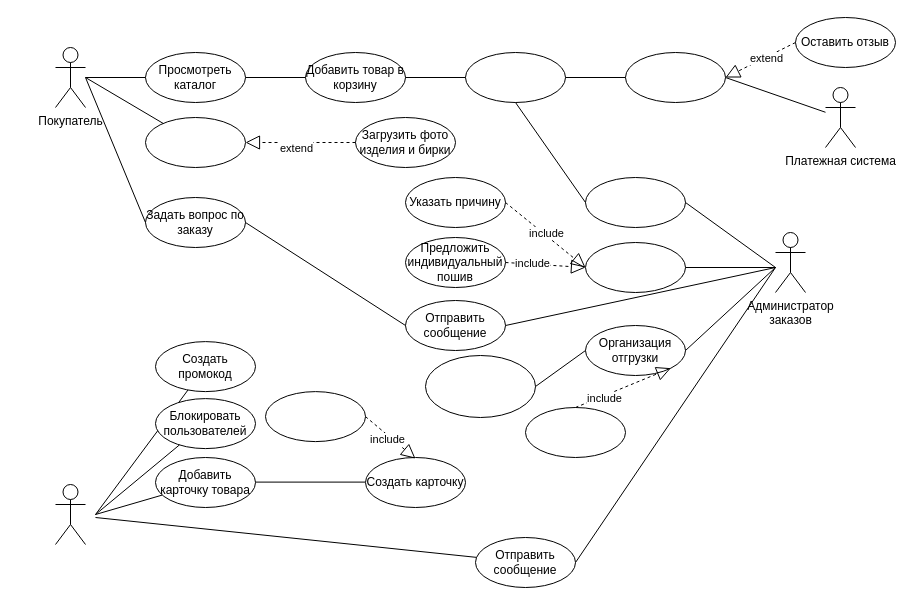
The diagram is 913 pixels wide and 605 high, and some of its shapes have lost their labels. The centre of each missing label's shape, as x and y in pixels:
Администратор интернет-магазина: point 70,514
Вернуть товар: point 195,142
Добавить фото, цену, описание: point 315,416
Изменять статус заказа: point 575,432
Оплатить заказ: point 675,77
Отмена заказа: point 635,267
Оформить заказ: point 515,77
Передать заказ в службу доставки: point 480,386
Подтверждение заказа: point 635,202
